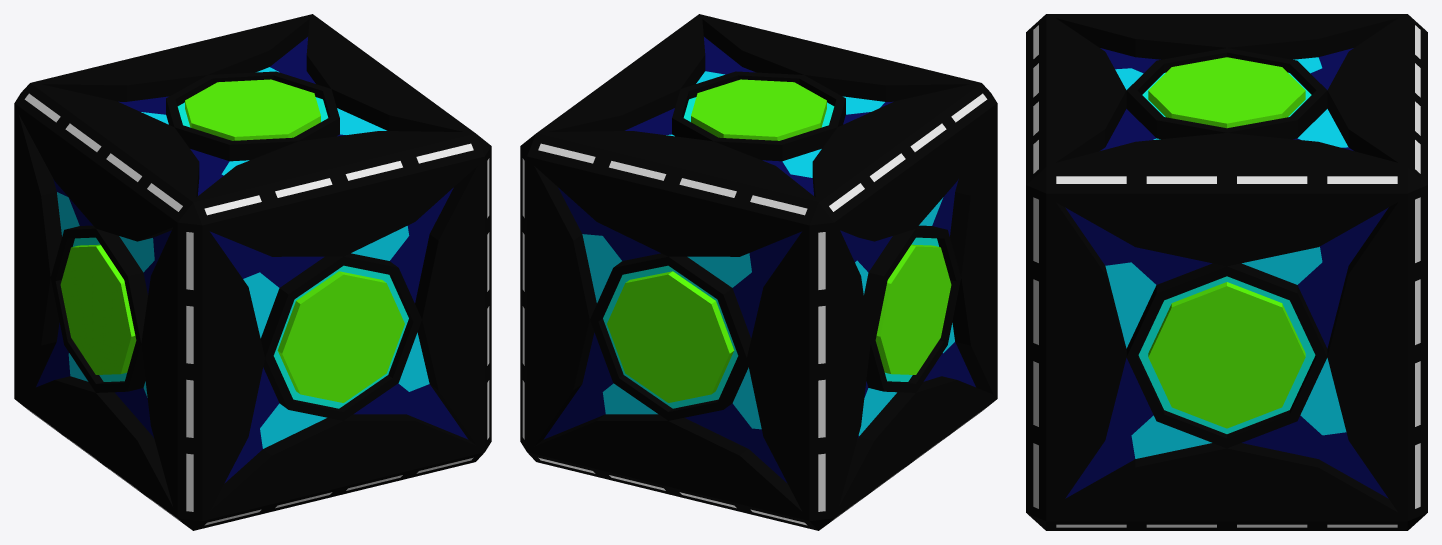
3 renders of one model, left to right at view 1: azimuth 30°, elevation 25°; view 2: azimuth 150°, elevation 25°; view 3: azimuth 270°, elevation 25°, orthographic. The views are drawn at different scales.
Parts seen in each view (by area): view 1: Cube.008; view 2: Cube.008; view 3: Cube.008.
Boxes of the visible parts, x1,y1,x2,y2 form: Cube.008: (14, 14, 491, 530); Cube.008: (520, 14, 997, 530); Cube.008: (1026, 14, 1427, 530).
Bounding box in the file's own units: 200 × 200 × 200.
